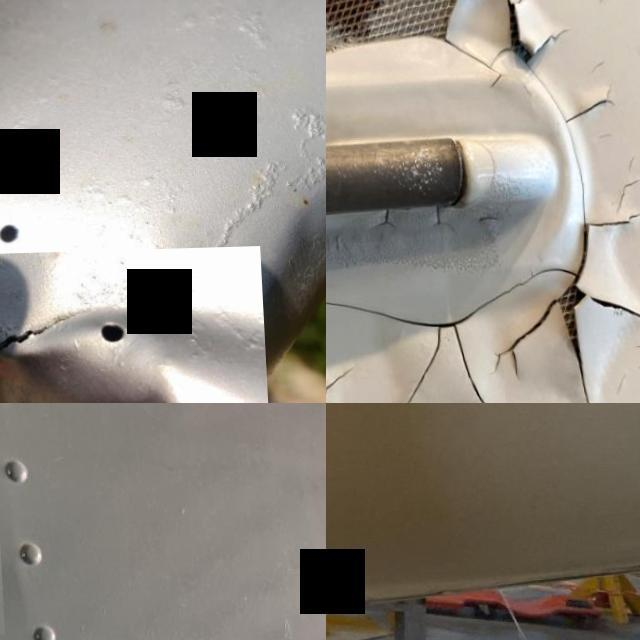Crack: (326, 266, 575, 403), (132, 294, 252, 390), (550, 287, 640, 403), (523, 69, 586, 231), (567, 210, 640, 292), (486, 299, 552, 384), (437, 33, 513, 99), (500, 0, 567, 72), (557, 84, 617, 133)
Dent: (0, 247, 266, 403)
